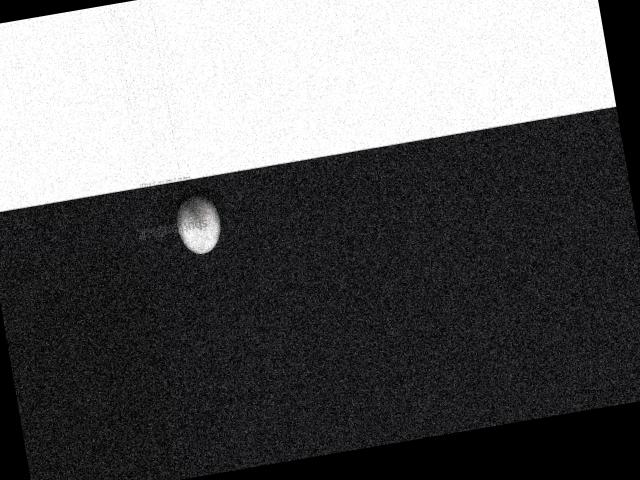egg: (173, 192, 225, 257)
